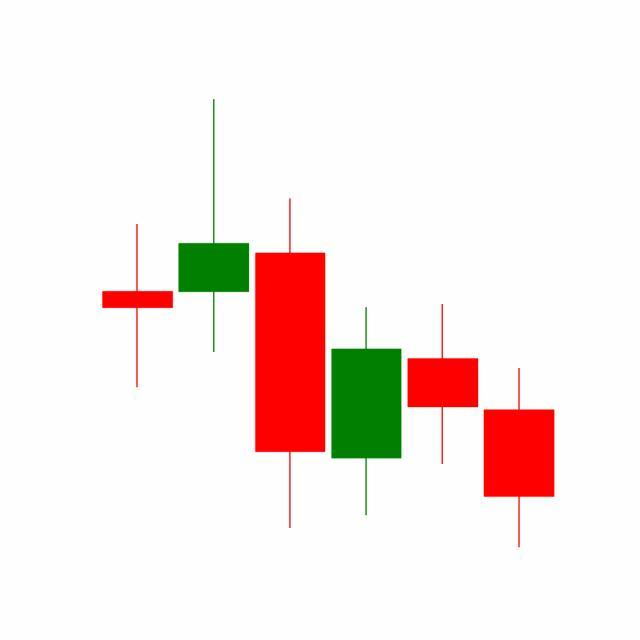Three Inside Up-Down: (326, 300, 555, 549)
